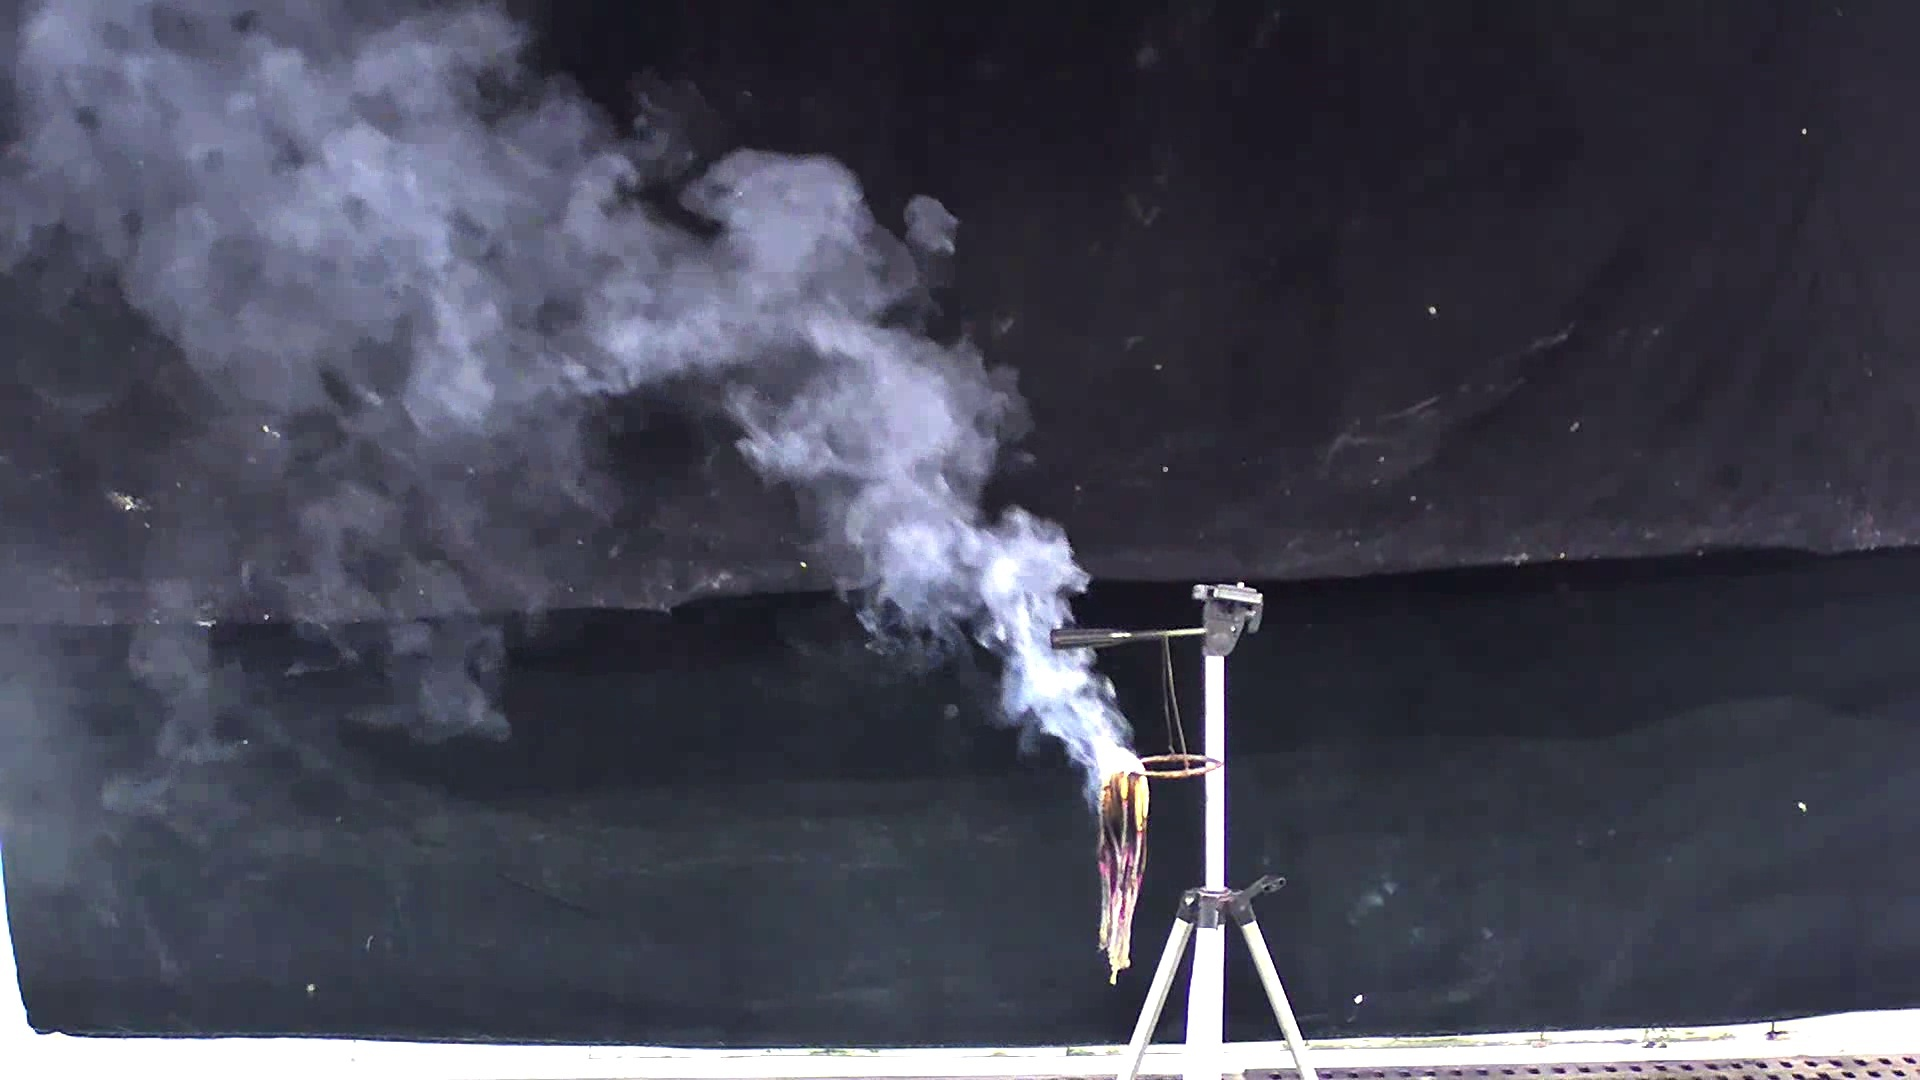smoke: (404, 66, 1168, 814)
